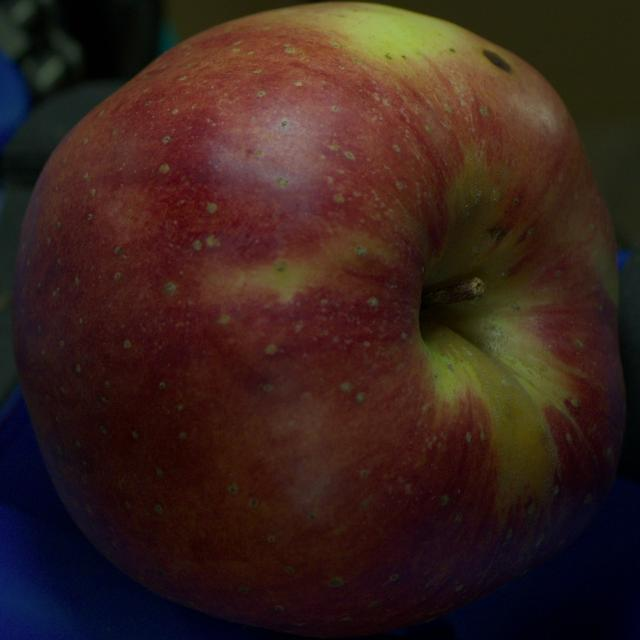apple: (13, 3, 624, 636)
pest: (483, 49, 511, 72), (492, 227, 507, 241)
